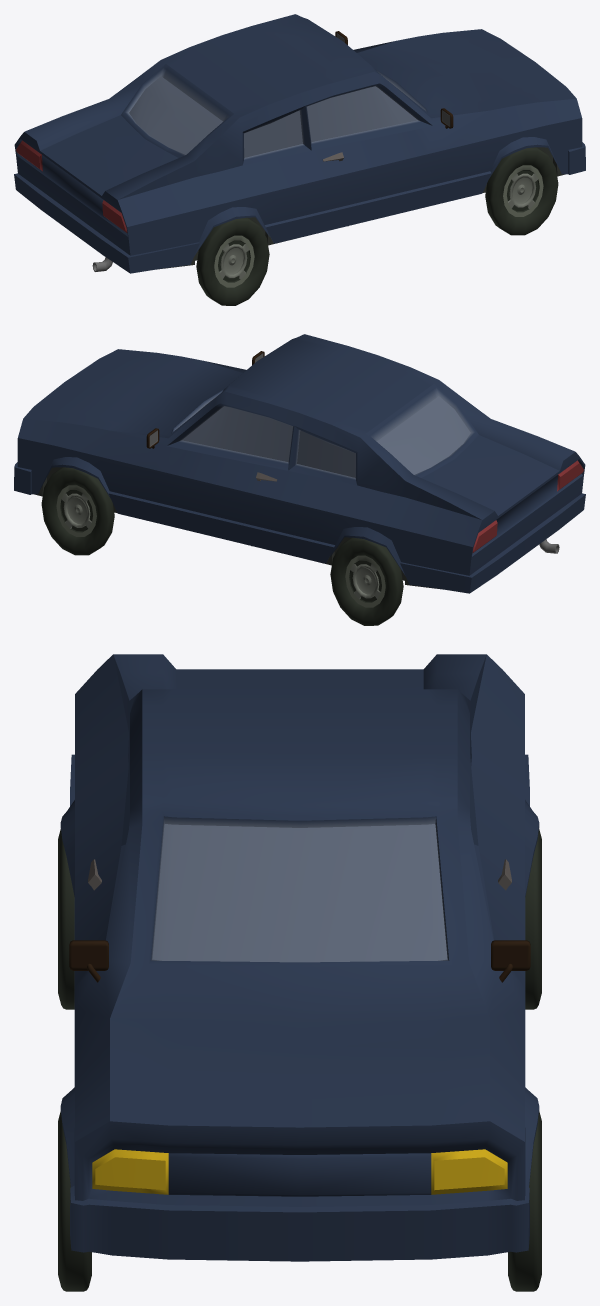
File: car.fbx
3 renders of one model, top to bottom at view 1: azimuth 30°, elevation 25°; view 2: azimuth 150°, elevation 25°; view 3: azimuth 270°, elevation 25°, orthographic. The views are drawn at different scales.
Visible parts, largest first — view 1: Car; view 2: Car; view 3: Car.
Boxes of the visible parts, left/top/right/bottom form: Car: left=14, top=14, right=585, bottom=305; Car: left=14, top=334, right=585, bottom=625; Car: left=58, top=654, right=541, bottom=1291.
Bounding box in the file's own units: 2491 × 920 × 1111.
